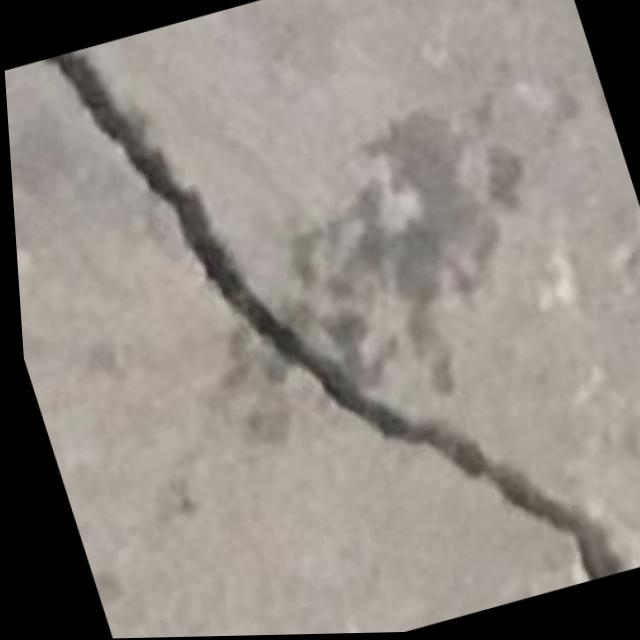Crack: (50, 0, 635, 639)
